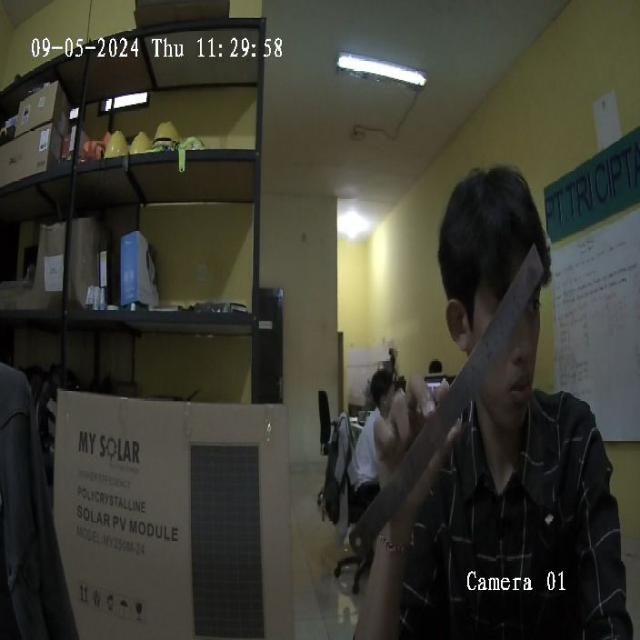Ruler: (351, 249, 542, 543)
